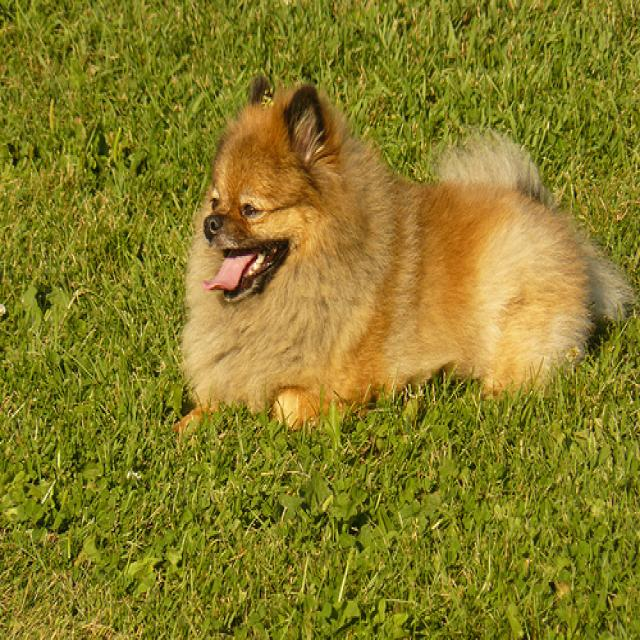dog: (200, 77, 335, 307)
